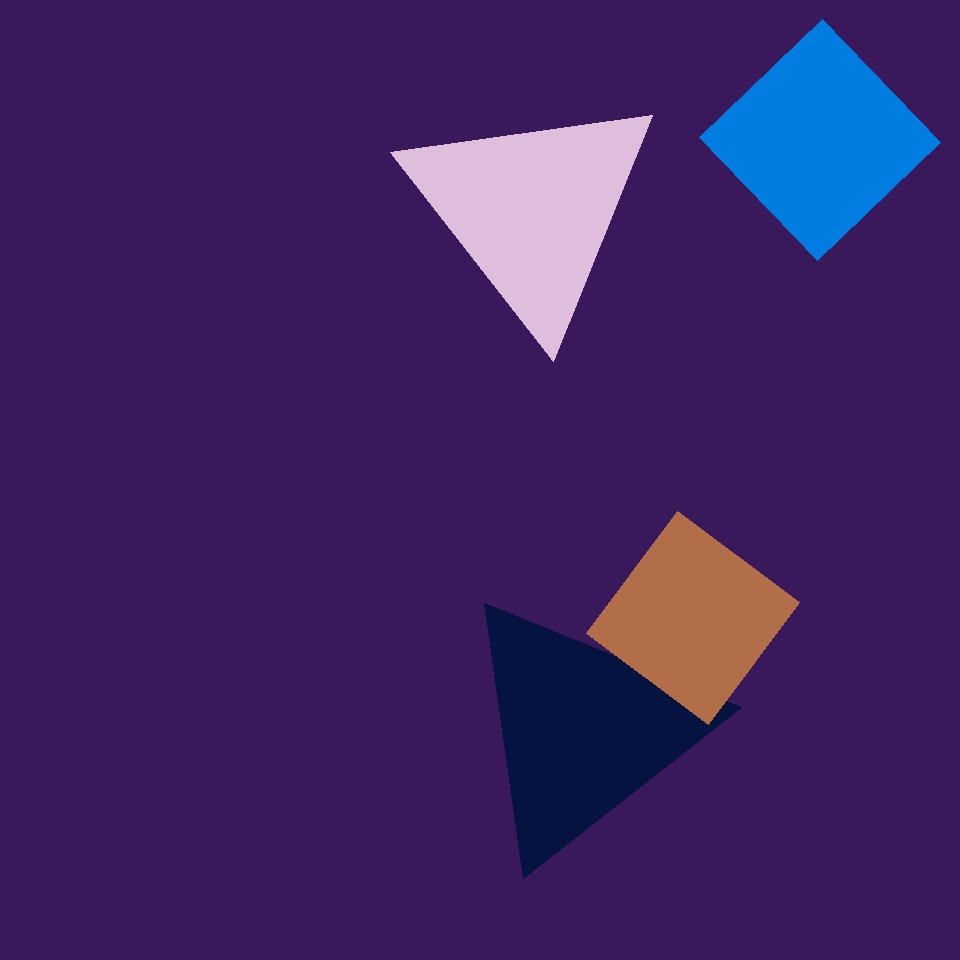circle: (454, 592, 712, 867), (401, 87, 663, 333)
square: (700, 20, 940, 260), (586, 512, 800, 725)
